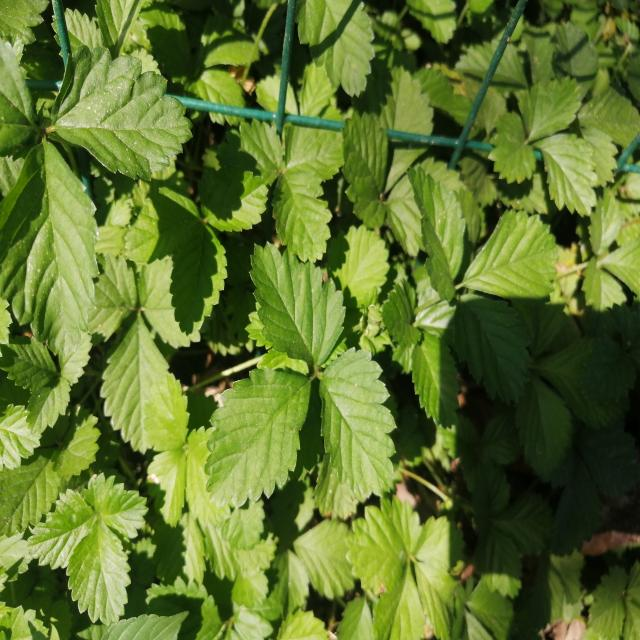Mock_strawberry: (14, 77, 223, 439), (216, 225, 409, 501)
